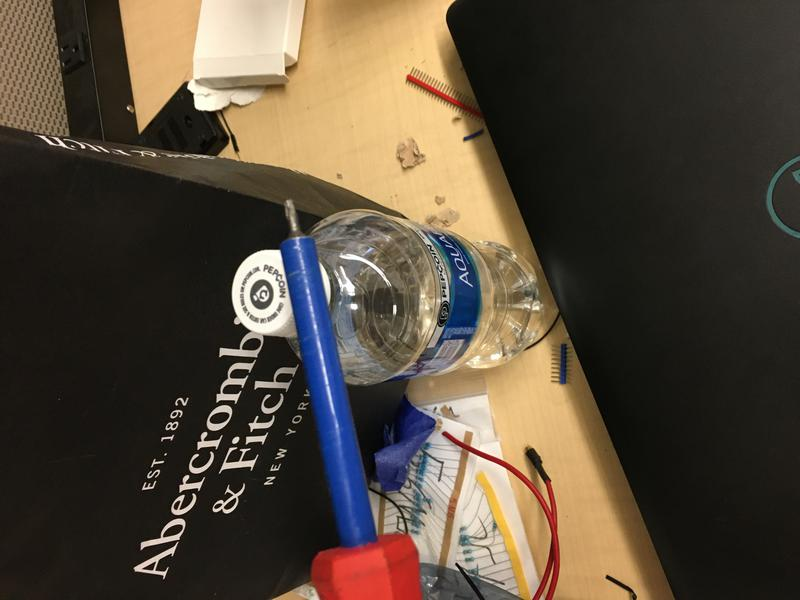bottle: (231, 208, 546, 390)
